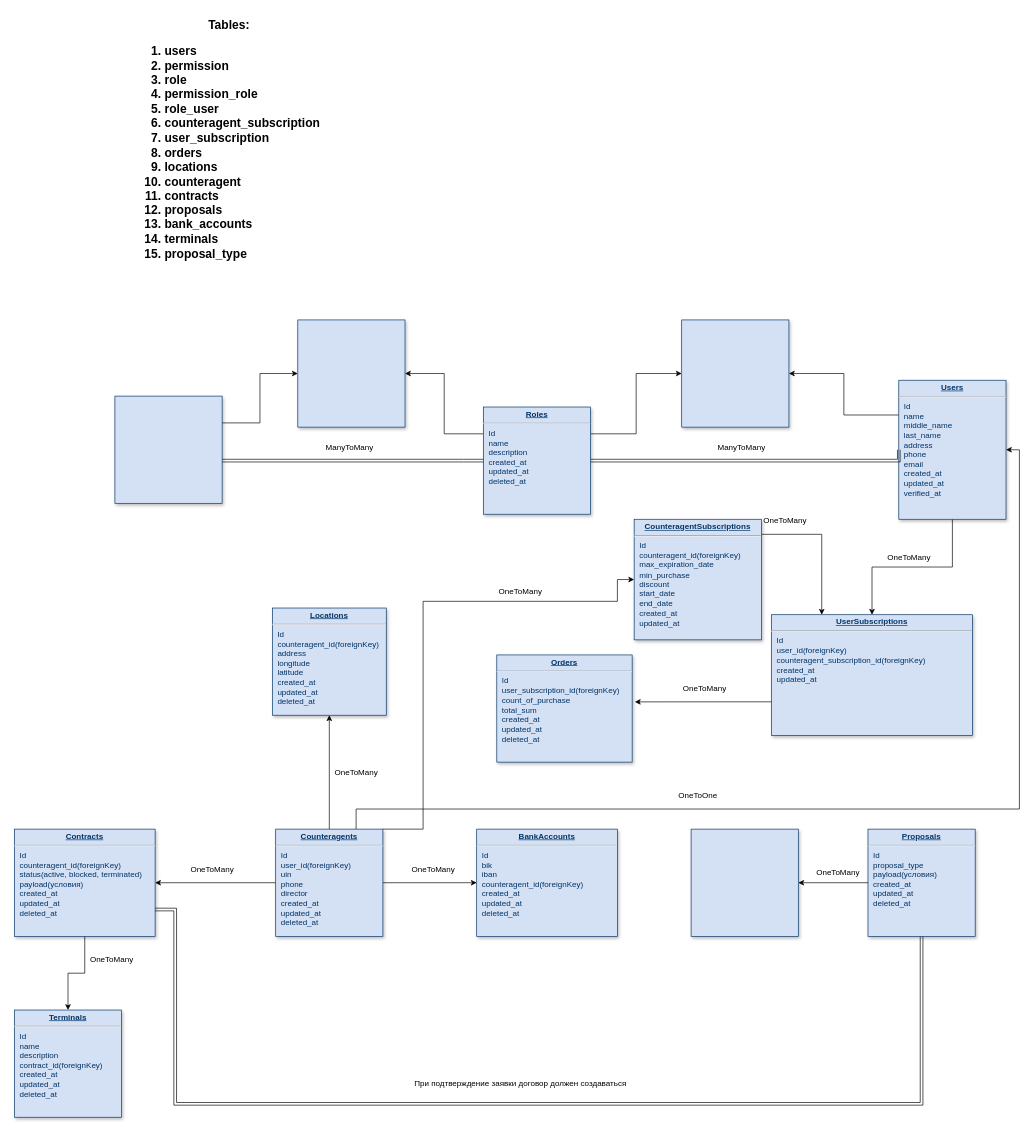
Image size: 1036x1134. Some labels were removed from this diagram. The centre of each missing label's shape, as x and y in pixels:
"Permission_role permission_id role_id created_at updated_at deleted_at" belongs at [351,374].
"Permissions Id name description created_at updated_at deleted_at" belongs at [169,450].
"ProposalTypes Id name description created_at updated_at deleted_at" belongs at [745,883].
"Role_user role_id user_id created_at updated_at deleted_at" belongs at [735,374].
